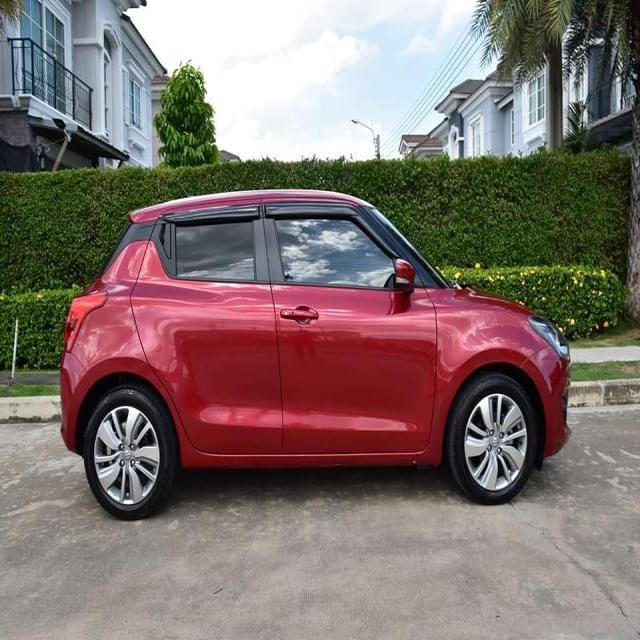Hatchback: (59, 190, 571, 523)
